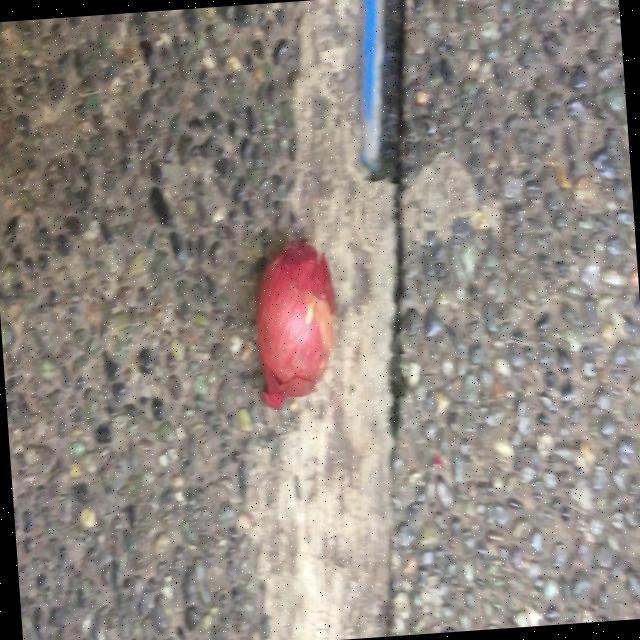Onion: (255, 241, 335, 408)
